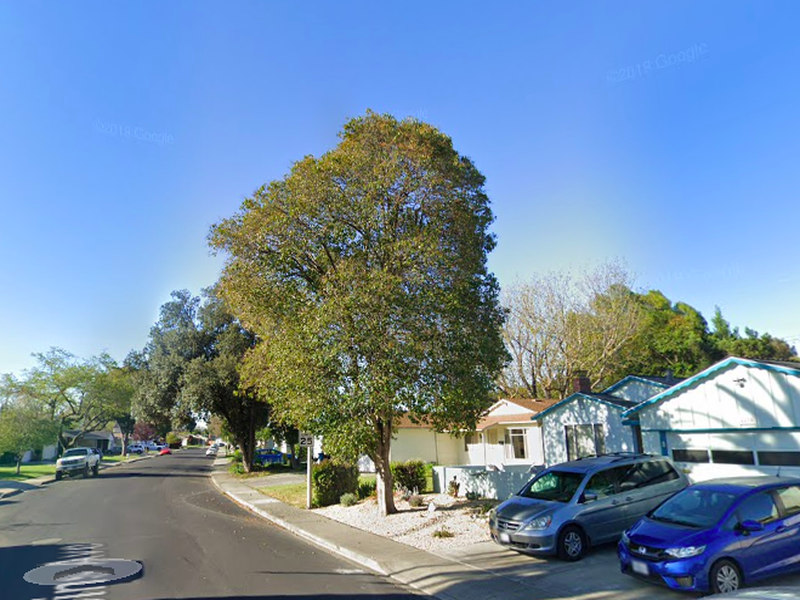tree: (212, 107, 514, 519), (131, 287, 274, 476)
